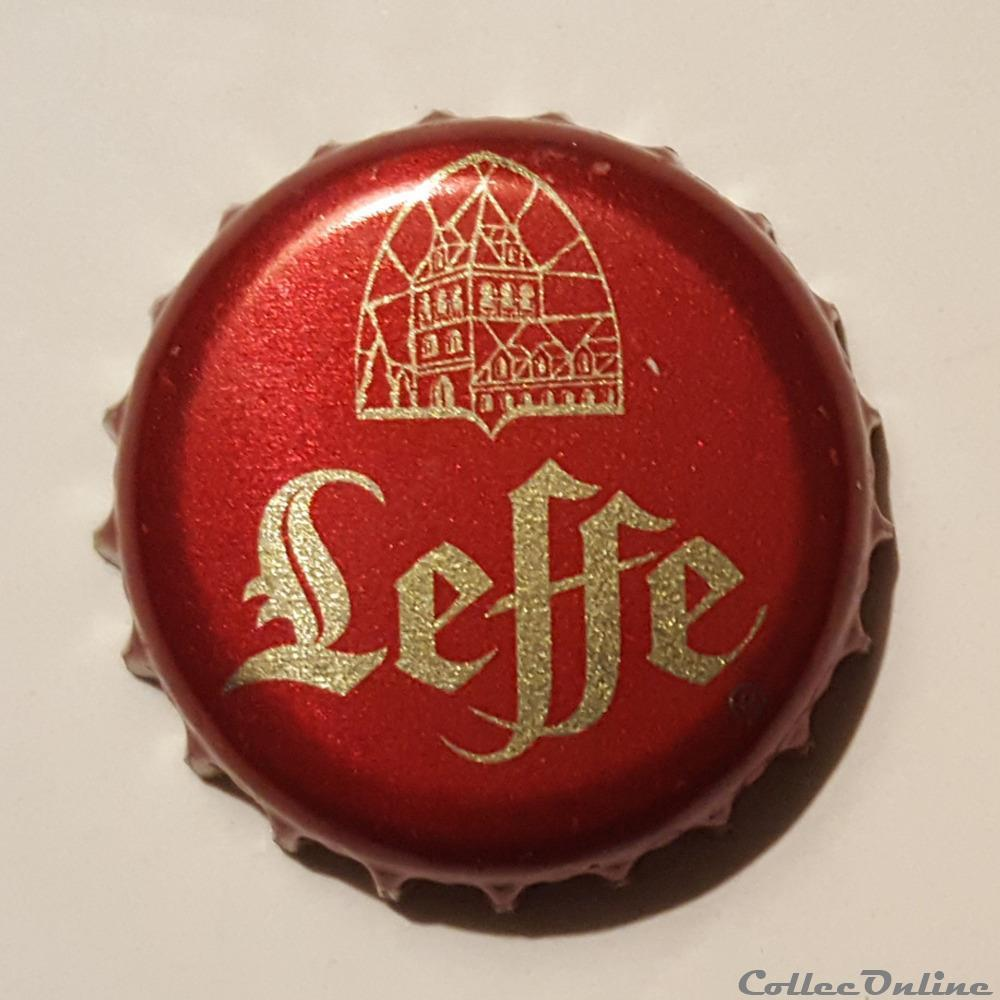metal: (97, 116, 894, 910)
